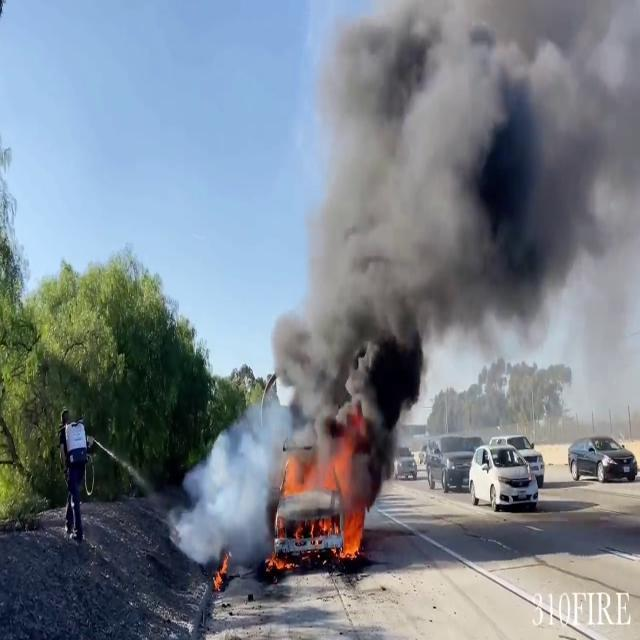Fire: (284, 430, 372, 556)
Smoke: (289, 0, 639, 477), (174, 398, 304, 580)
